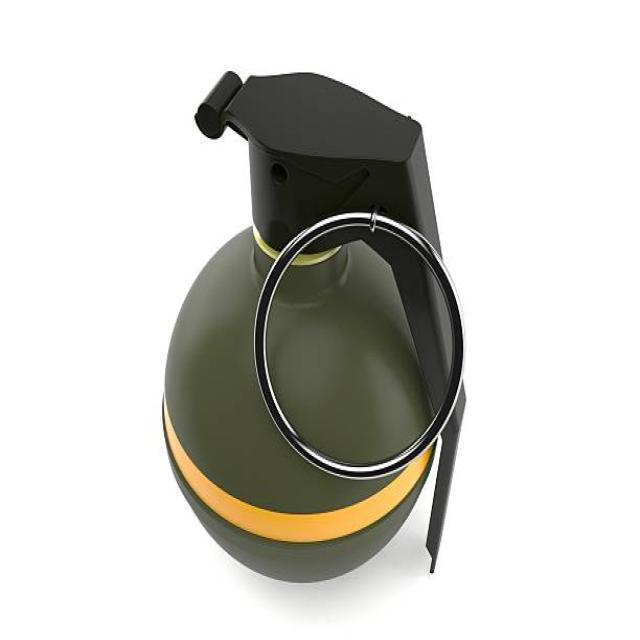grenade: (156, 69, 471, 585)
